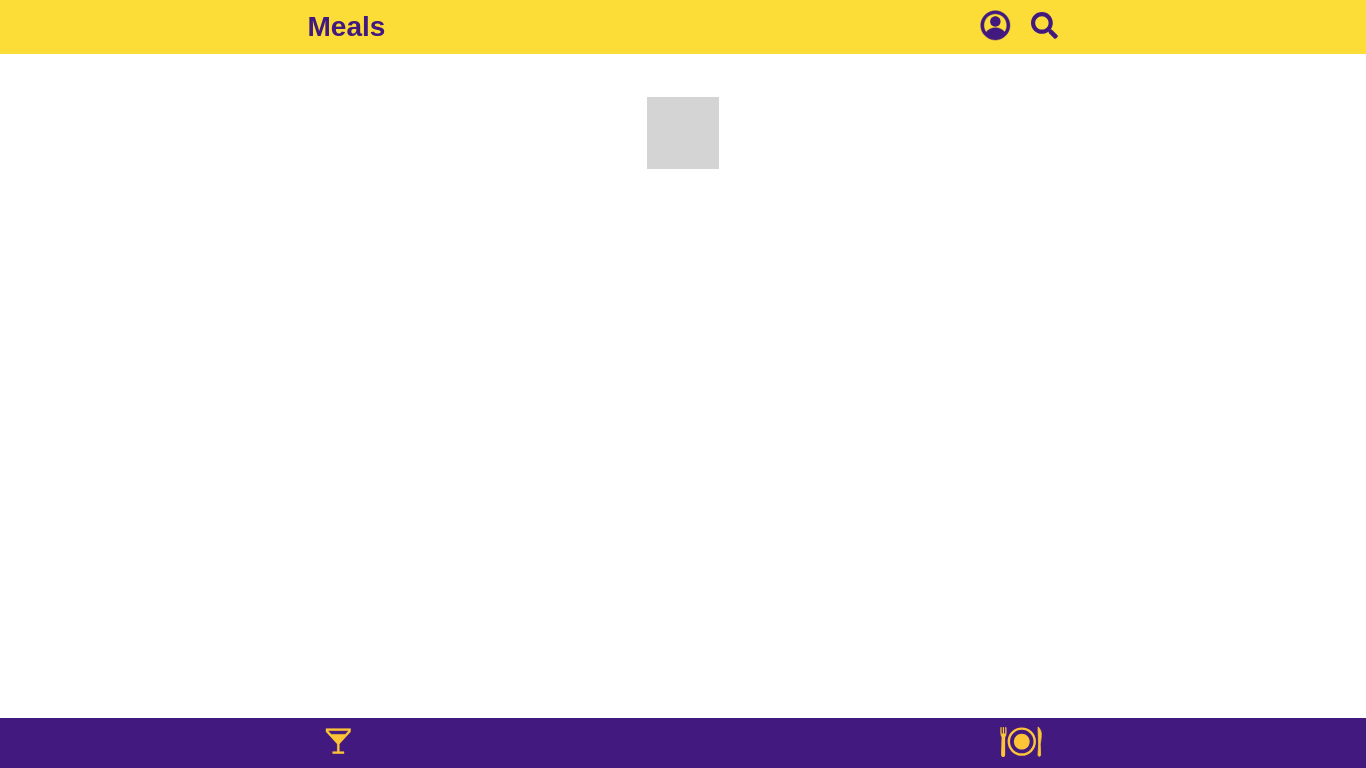
Test case: Testando o componente Header através da página <Recipes /> › Verifica se ao clicar no btn Search pela segunda vez a barra some
The image size is (1366, 768).
Click the button with test id "search-top-btn": coordinates (1045, 27) x1=1031 y1=12 x2=1058 y2=42
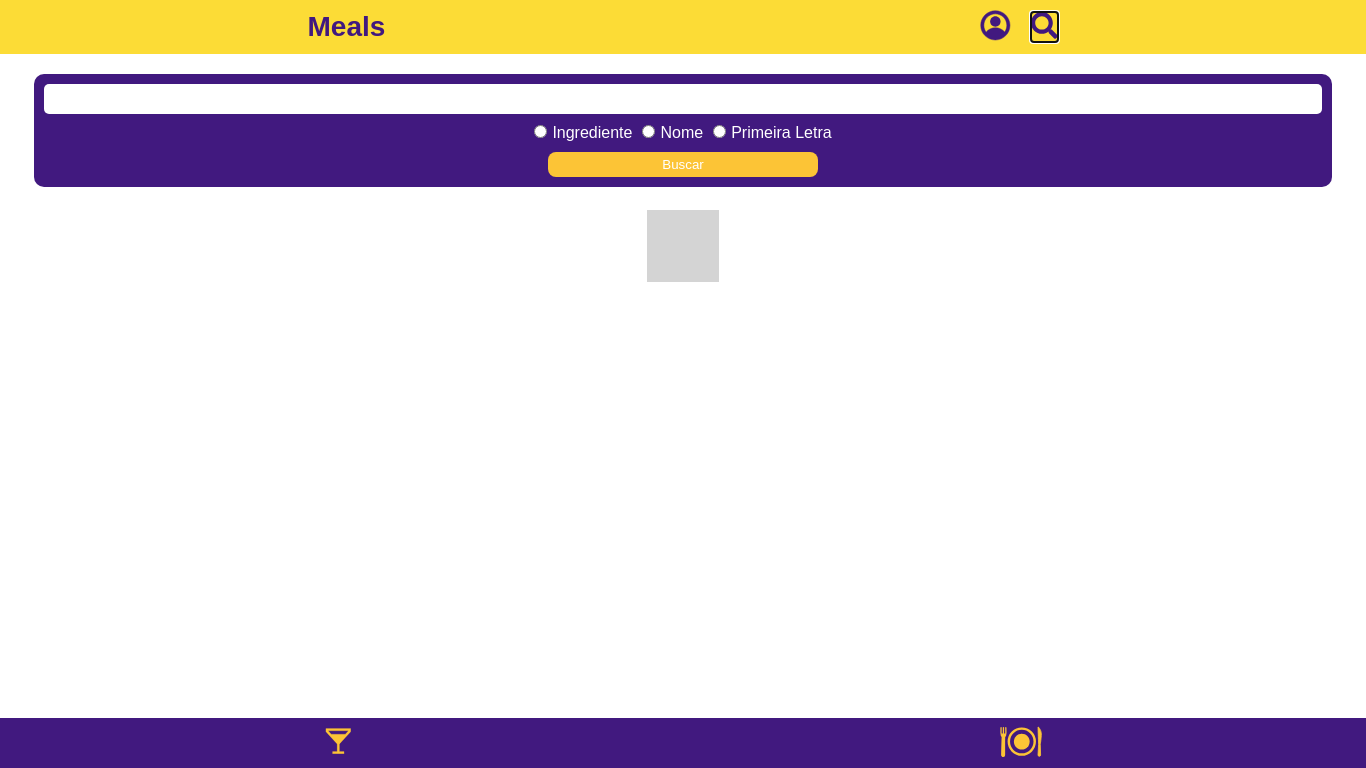
Click the button with test id "search-top-btn": coordinates (1045, 27) x1=1031 y1=12 x2=1058 y2=42
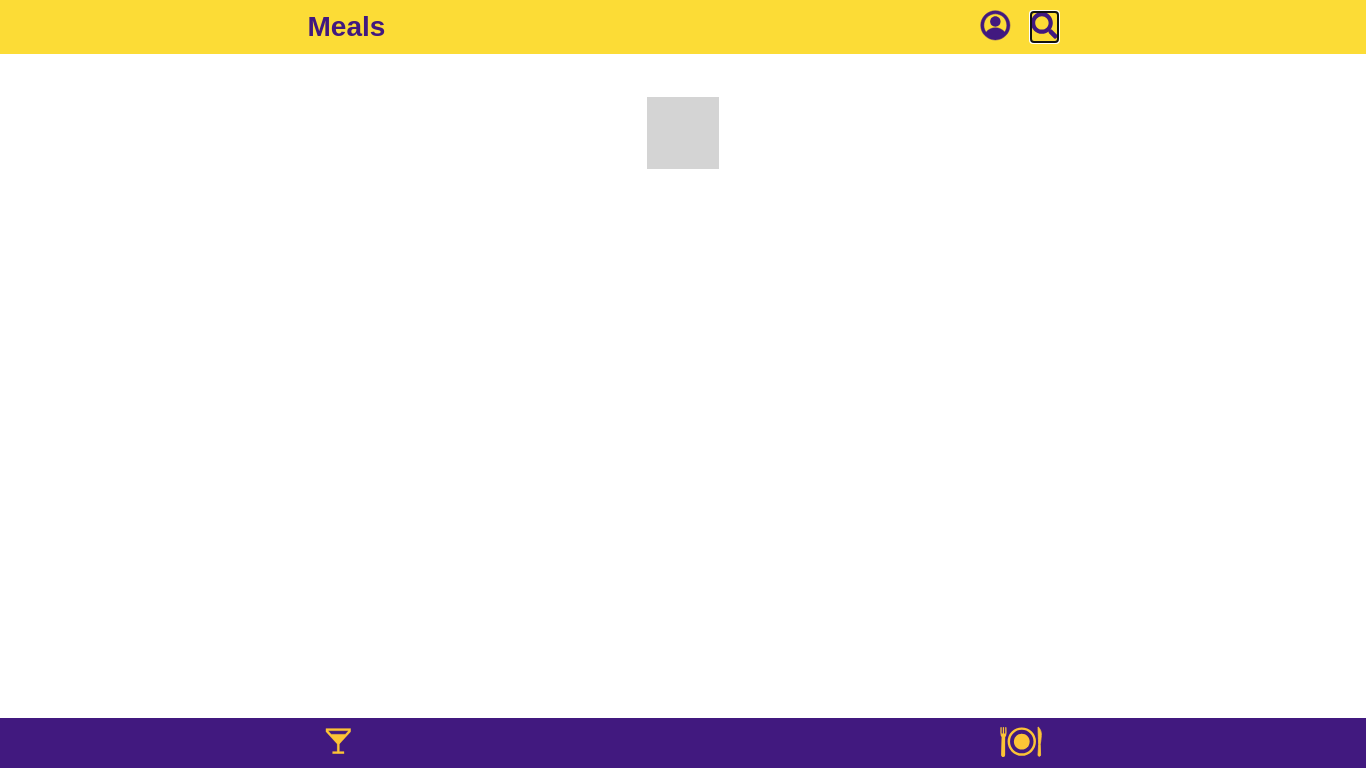
Expected: the field with test id "search-input" is gone
